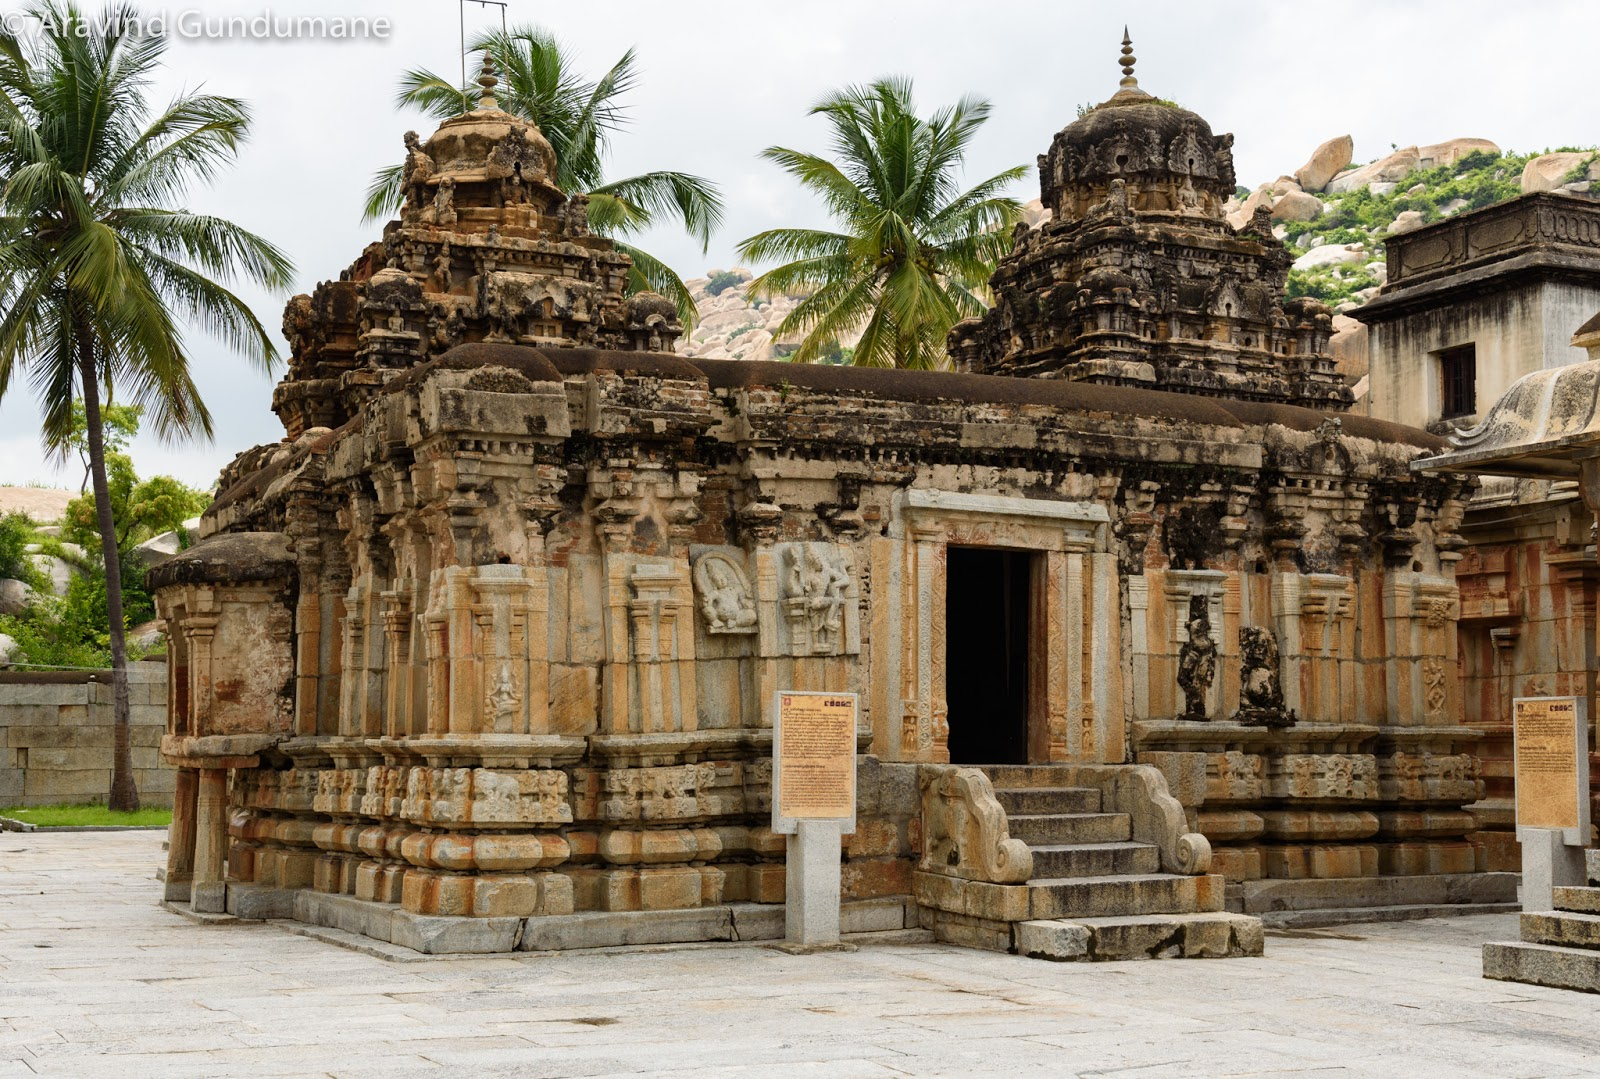Buddhist Temple: (148, 46, 1555, 912)
